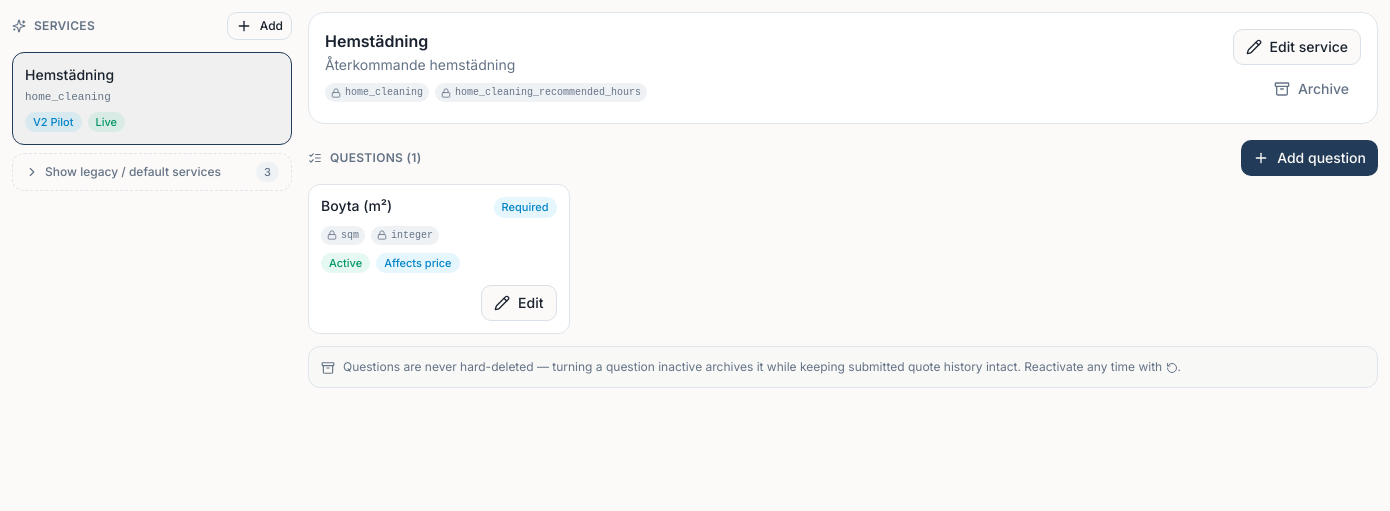
Test: ServicesFieldsEditor — GPM-2a legacy reveal + badges › preserves questions for hidden legacy services — visible after reveal + select
Check: the text "Bostadsyta vid flytt (m²)" is not shown
Click the button "Show legacy / default services 3".
click(152, 172)  # box [12,153,292,191]
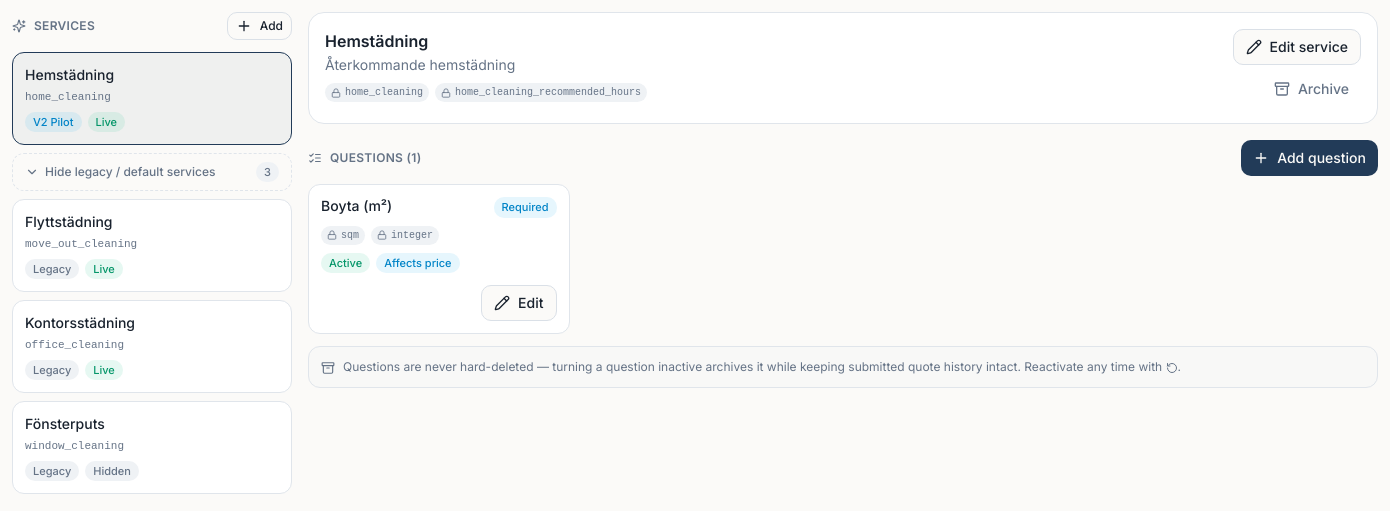
Click the button "Flyttstädning move_out_cleaning Legacy Live".
click(69, 222)  # box [12,199,292,292]
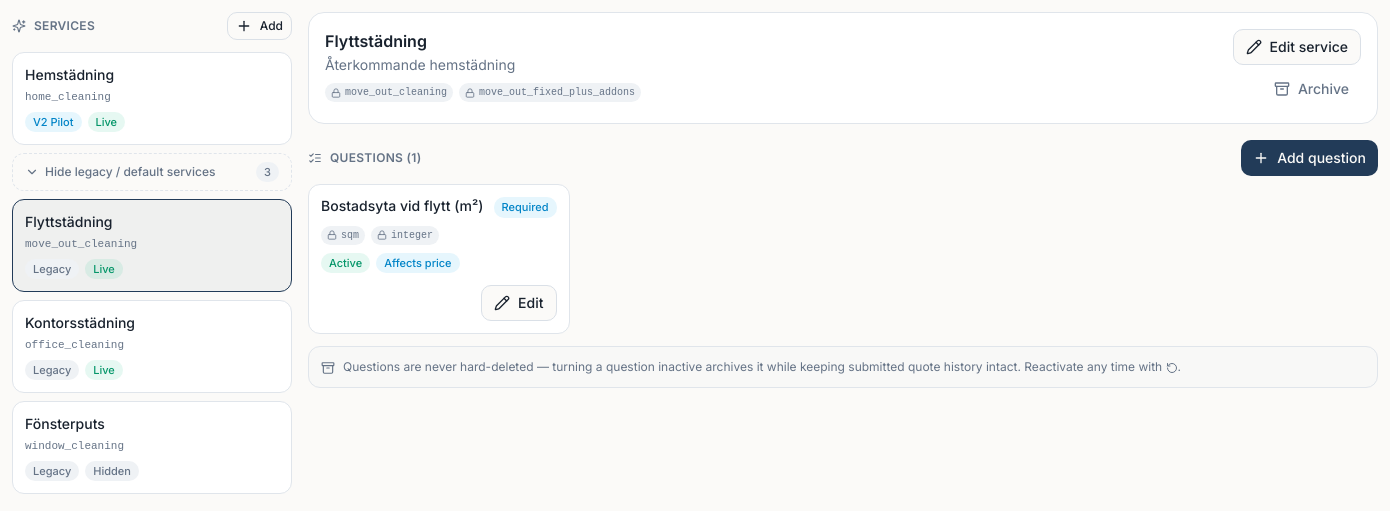
Check: the text "Bostadsyta vid flytt (m²)" is shown, box [321,197,484,214]
